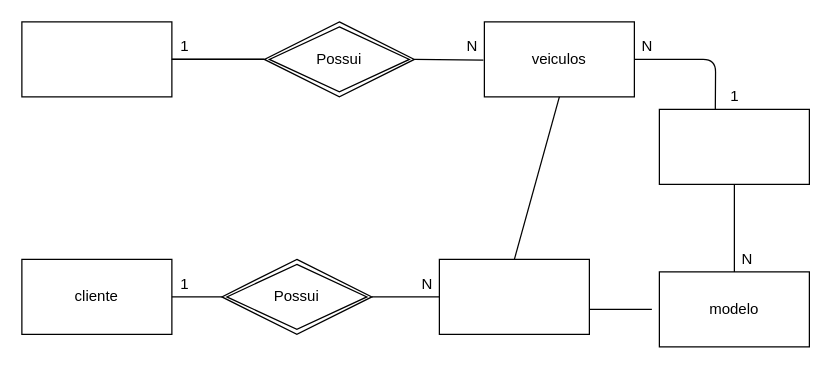
Image size: 831x369. Some labels were removed from this diagram. The shapes that lost their labels are listed below. From the top down, each one's centre as x and y in pixels, then its label:
At point (96, 59): "empresa".
At point (733, 146): "marca".
At point (513, 296): "aluguel".
